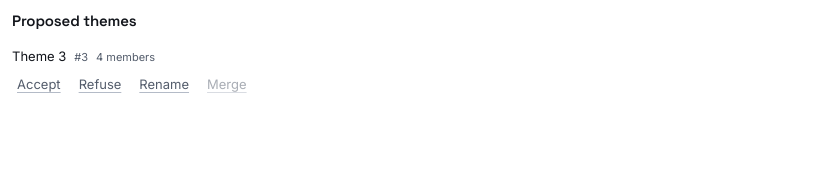
Test: ThemesProposed › shows the specific message when the daemon refuses a rename
Click the button with aria-label "Rename theme 3": (164, 84) [134, 70, 194, 98]
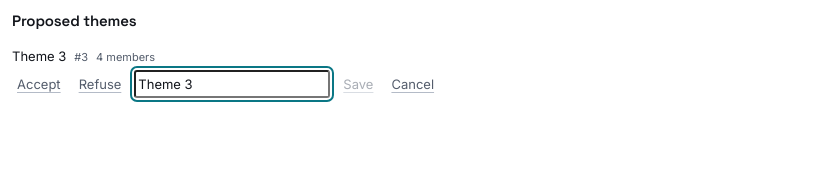
Replace the text in the field named "New name for theme 3" with "Sleep": (232, 84) [134, 70, 330, 98]
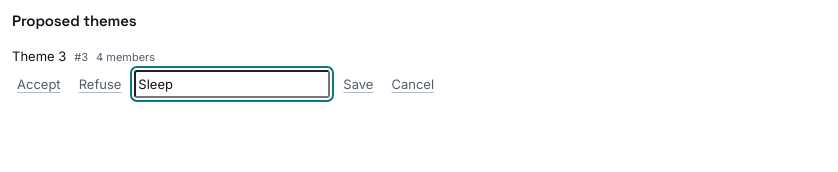
Click the button with aria-label "Save name of theme 3": (358, 84) [338, 70, 378, 98]
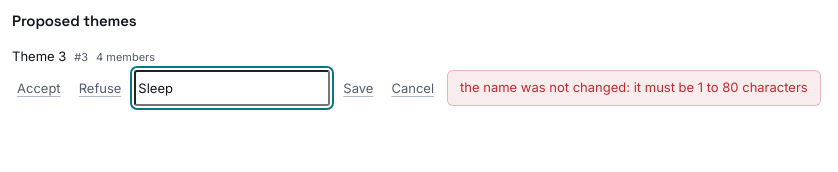
Result: the text "the name was not changed: it must be 1 to 80 characters" is shown at [460, 79, 808, 97]
